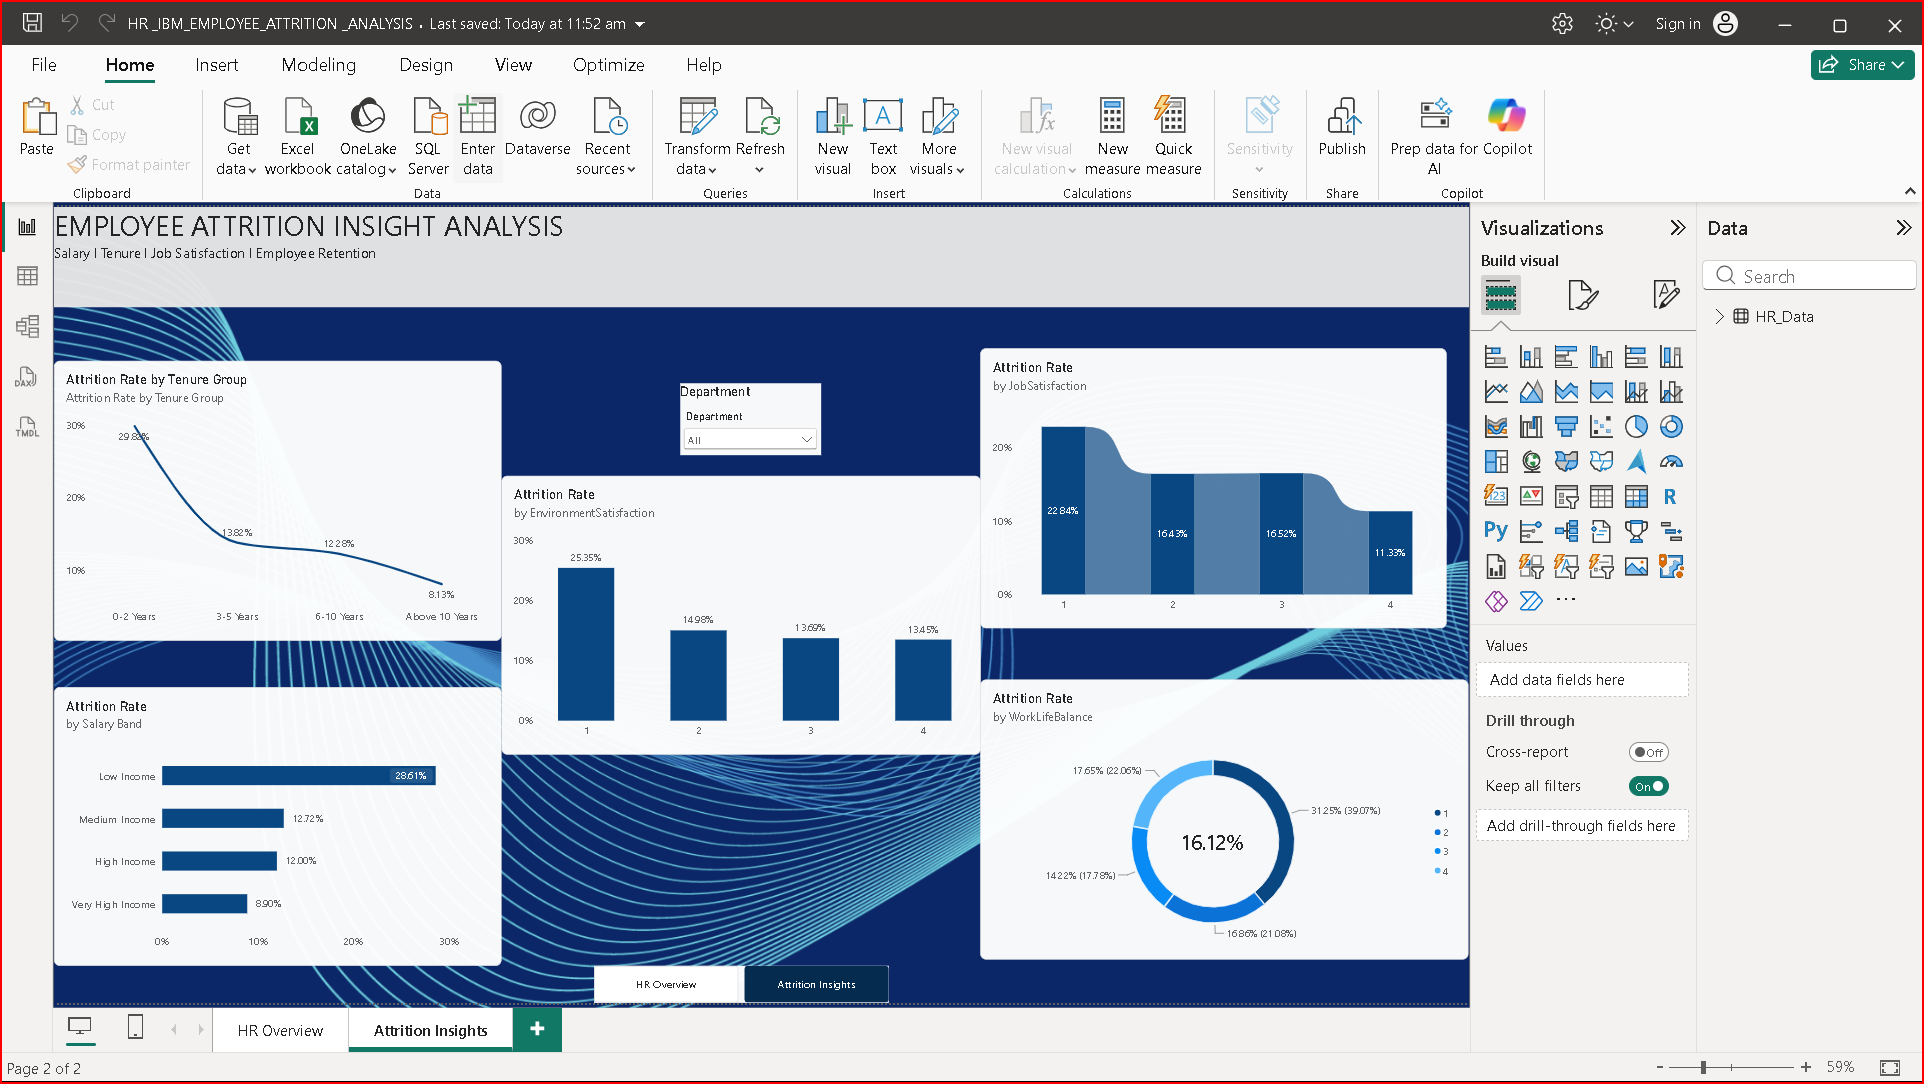

Layout of this report page (visuals, bound fields, positions):
{"tool":"powerbi","page":{"name":"Attrition Insights","canvas":[1920,1080],"ordinal":1},"visuals":[{"type":"barChart","fields":{"Category":["HR_Data.Salary Band"],"Y":["HR_Data.Attrition Rate"]},"box":[0,650.6,607,378.5],"z":0},{"type":"textbox","box":[0,0,1920.4,136],"z":1},{"type":"lineChart","title":"Attrition Rate by Tenure Group","fields":{"Category":["HR_Data.Tenure Group"],"Y":["HR_Data.Attrition Rate"]},"box":[0,209.3,607,380.2],"z":2},{"type":"ribbonChart","fields":{"Category":["HR_Data.JobSatisfaction"],"Y":["HR_Data.Attrition Rate"]},"box":[1257.6,191.9,633.1,380.2],"z":3},{"type":"donutChart","fields":{"Category":["HR_Data.WorkLifeBalance"],"Y":["HR_Data.Attrition Rate"]},"box":[1257.6,641.9,662.8,380.2],"z":4},{"type":"clusteredColumnChart","fields":{"Category":["HR_Data.EnvironmentSatisfaction"],"Y":["HR_Data.Attrition Rate"]},"box":[607,364.5,650.6,378.5],"z":5},{"type":"pageNavigator","box":[733.1,1030.2,400,50],"z":6},{"type":"slicer","title":"Department","fields":{"Values":["HR_Data.Department"]},"box":[850.1,239.5,190.9,97.3],"z":7}]}

Visuals, with their boxes on the page's 1920x1080 design canvas (x1, y1, x2, y2). These are canvas units, not pixel positions in the 1924x1084 screenshot, which may show the page scaled, cropped or inside an application window:
barChart - HR_Data.Salary Band x HR_Data.Attrition Rate: <box>0,651,607,1029</box>
textbox: <box>0,0,1920,136</box>
"Attrition Rate by Tenure Group" lineChart: <box>0,209,607,590</box>
ribbonChart - HR_Data.JobSatisfaction x HR_Data.Attrition Rate: <box>1258,192,1891,572</box>
donutChart - HR_Data.WorkLifeBalance x HR_Data.Attrition Rate: <box>1258,642,1920,1022</box>
clusteredColumnChart - HR_Data.EnvironmentSatisfaction x HR_Data.Attrition Rate: <box>607,364,1258,743</box>
pageNavigator: <box>733,1030,1133,1080</box>
"Department" slicer: <box>850,240,1041,337</box>
